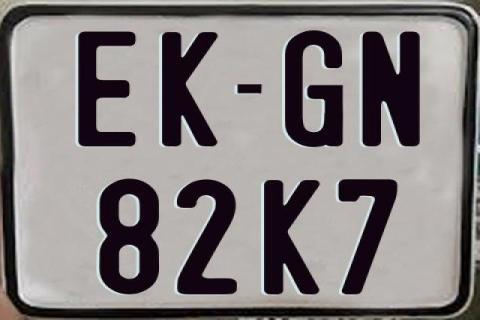0: (176, 180, 240, 300), (336, 179, 398, 296), (97, 177, 158, 295)
E: (77, 29, 137, 149)
G: (282, 29, 341, 149)
K: (263, 179, 325, 295), (159, 32, 218, 147)
N: (359, 30, 418, 146)
